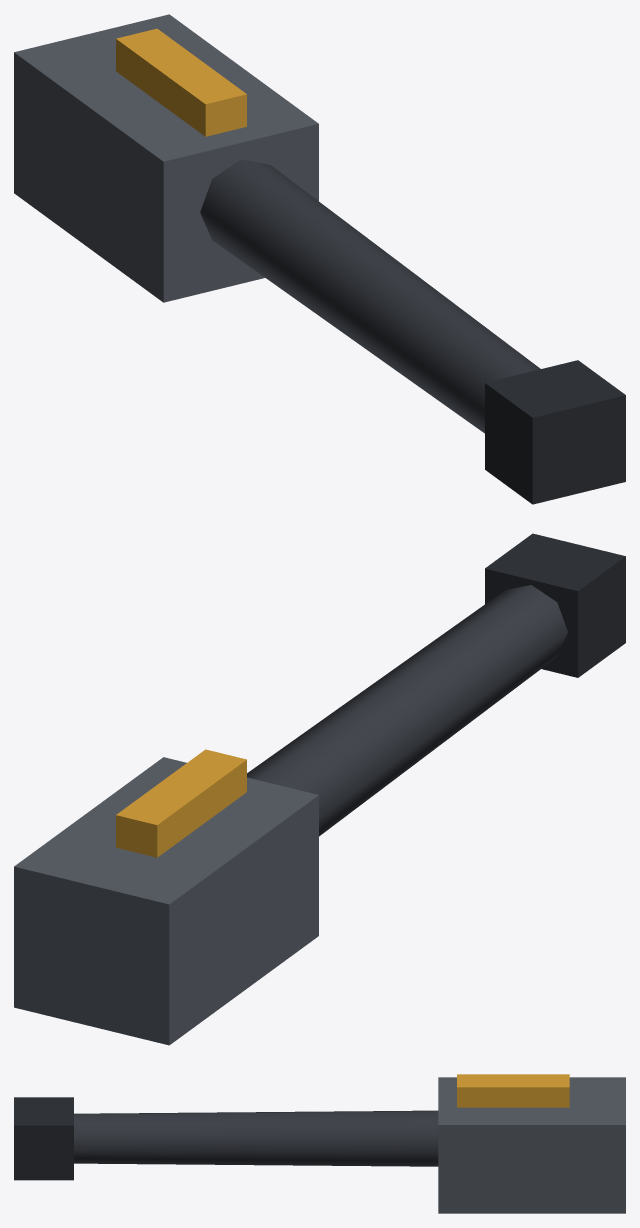
Rendered from wpn_cannon.glb.
The picture shows the model from 3 angles, top to bottom: view 1: azimuth 30°, elevation 25°; view 2: azimuth 150°, elevation 25°; view 3: azimuth 270°, elevation 25°; orthographic projection. The views are drawn at different scales.
Parts seen in each view (by area): view 1: weapon; view 2: weapon; view 3: weapon.
Boxes of the visible parts, left/top/right/bottom form: weapon: left=14, top=14, right=625, bottom=504; weapon: left=14, top=533, right=625, bottom=1045; weapon: left=14, top=1074, right=625, bottom=1213.
Bounding box in the file's own units: 0.3 × 0.32 × 1.63.
